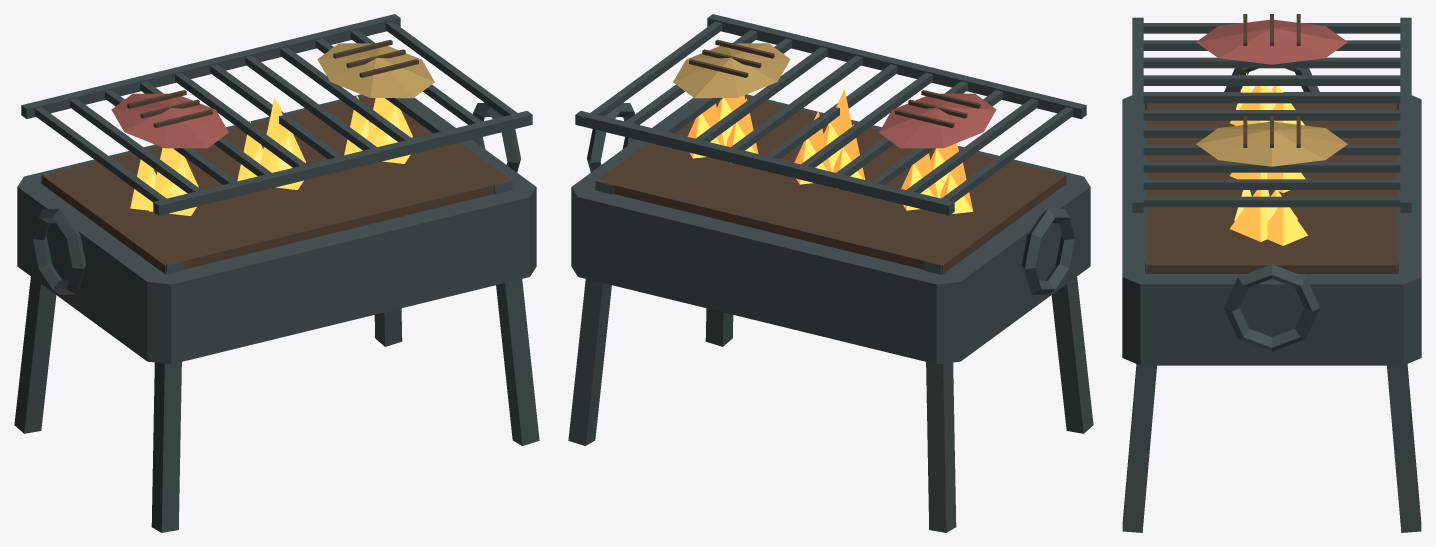
File: picnic_grill.glb
3 views of the same model, side by side, from view 1: azimuth 30°, elevation 25°; view 2: azimuth 150°, elevation 25°; view 3: azimuth 270°, elevation 25° (orthographic).
Visible parts, largest first — view 1: geometry, fire; view 2: geometry, fire; view 3: geometry, fire.
Part boxes in pixels (x1,y1,x2,y2): geometry: (14,14,539,532); fire: (130,95,412,215); geometry: (568,14,1093,532); fire: (687,89,973,214); geometry: (1122,14,1421,532); fire: (1229,72,1307,245).
Size of the model in its own units: 1.18 by 0.8883 by 0.67.
